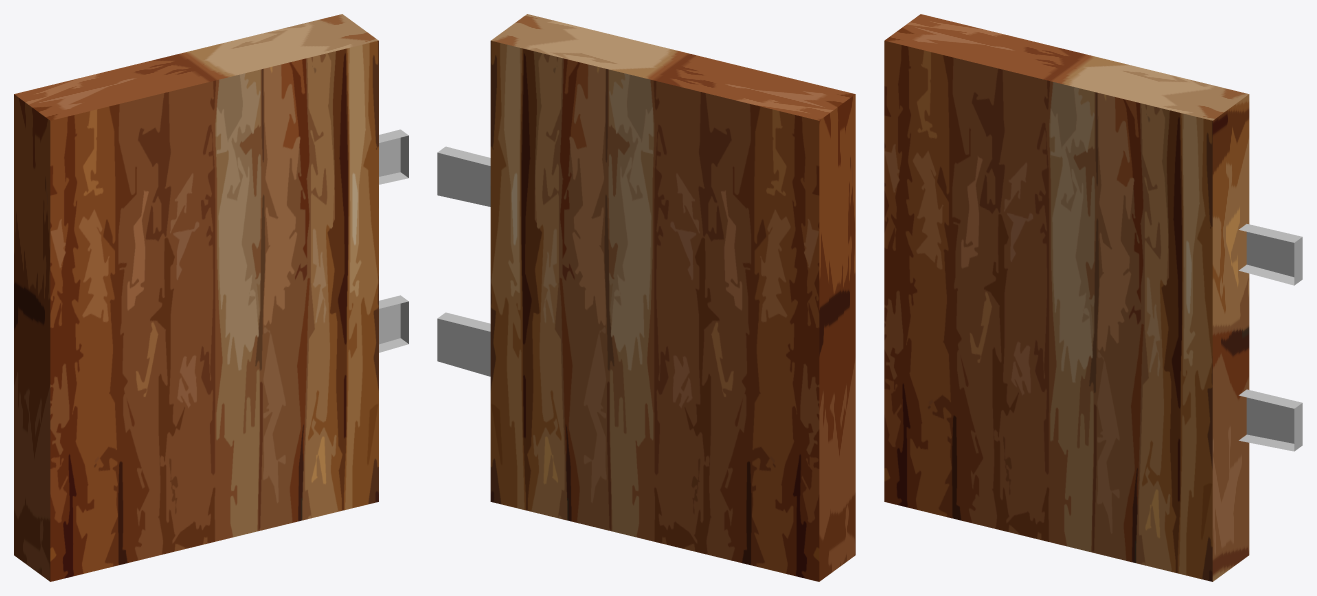
The model's file is woodDoor.fbx.
The picture shows the model from 3 angles, left to right: view 1: azimuth 30°, elevation 25°; view 2: azimuth 150°, elevation 25°; view 3: azimuth 330°, elevation 25°; orthographic projection.
Visible parts, largest first — view 1: woodDoor, doorSteel2, doorSteel; view 2: woodDoor, doorSteel2, doorSteel; view 3: woodDoor, doorSteel2, doorSteel.
Part boxes in pixels (<box>): woodDoor: <box>14,14,378,581</box>; doorSteel2: <box>379,295,408,352</box>; doorSteel: <box>379,129,408,184</box>; woodDoor: <box>490,14,855,581</box>; doorSteel2: <box>437,312,490,376</box>; doorSteel: <box>437,146,490,206</box>; woodDoor: <box>884,14,1249,581</box>; doorSteel2: <box>1239,389,1302,451</box>; doorSteel: <box>1239,224,1302,285</box>.
Size of the model in its own units: 0.1014 by 0.1163 by 0.0167.
